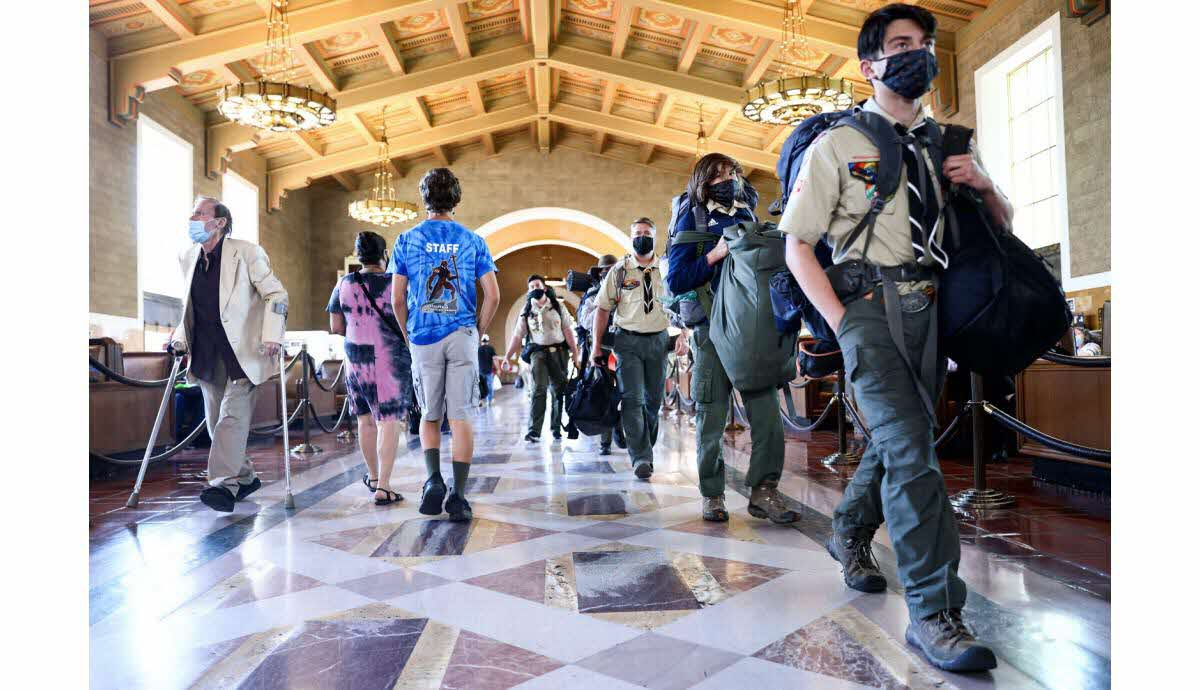with_mask: (877, 26, 947, 96), (709, 156, 742, 214), (190, 200, 226, 250), (529, 278, 551, 309), (633, 225, 653, 256)
